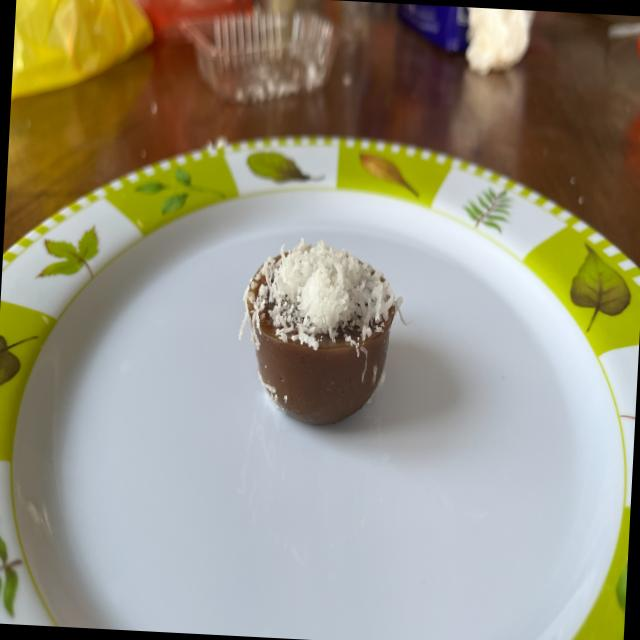Kuih lompang: (239, 239, 402, 425)
